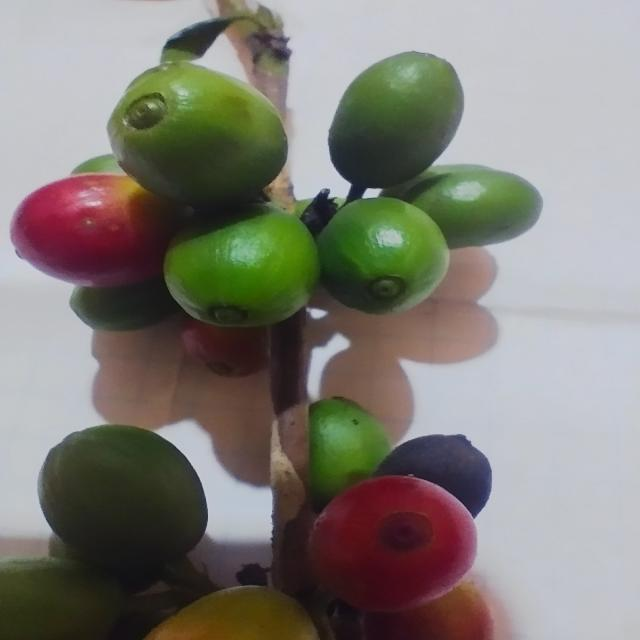Danado: (374, 434, 492, 518)
Sano: (38, 424, 207, 579), (108, 65, 287, 209), (309, 476, 476, 613), (11, 173, 183, 287), (164, 204, 319, 327), (328, 52, 463, 191), (317, 197, 449, 314), (402, 165, 542, 249), (307, 398, 391, 513)
